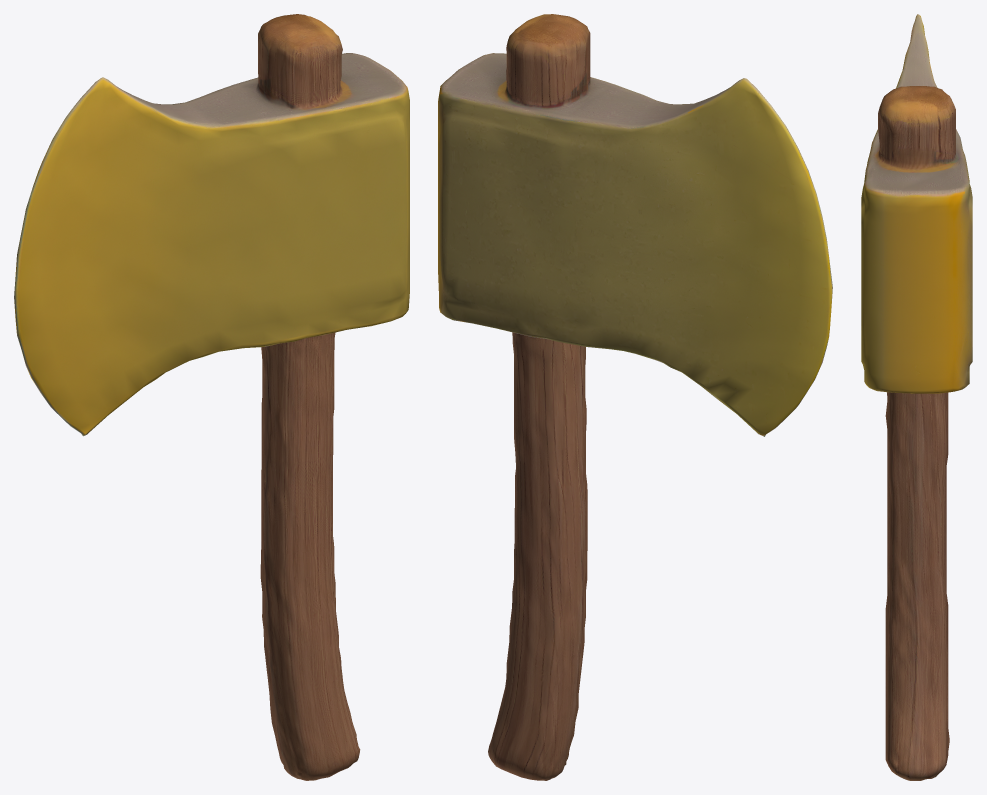
Rendered from Axe_Gold.fbx.
The picture shows the model from 3 angles, left to right: view 1: azimuth 30°, elevation 25°; view 2: azimuth 150°, elevation 25°; view 3: azimuth 270°, elevation 25°; orthographic projection. The views are drawn at different scales.
Parts seen in each view (by area): view 1: Mesh_0; view 2: Mesh_0; view 3: Mesh_0.
Part boxes in pixels (x1,y1,x2,y2): Mesh_0: (14, 14, 409, 780); Mesh_0: (438, 14, 832, 780); Mesh_0: (861, 14, 972, 780).
Size of the model in its own units: 99.8 by 191 by 28.57.
1 material, 1 textured.
